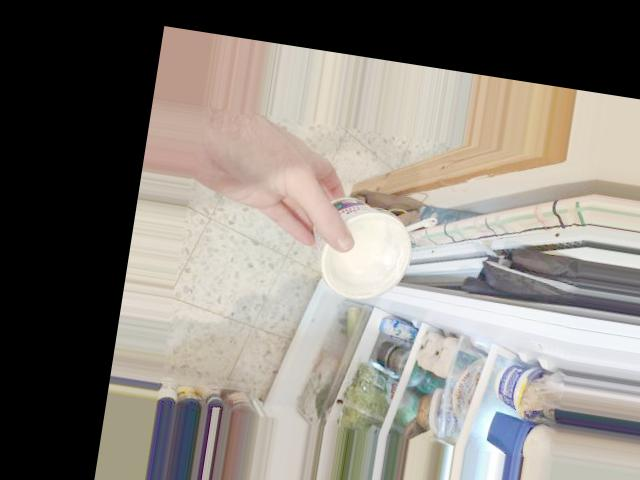cotage: (295, 178, 424, 308)
